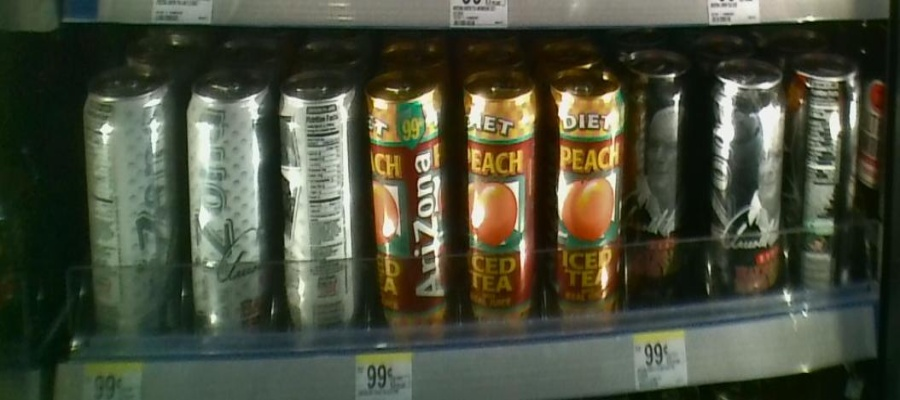bottle: (76, 73, 181, 348), (183, 68, 275, 353), (456, 68, 546, 352), (277, 66, 363, 360), (365, 66, 450, 343), (546, 59, 627, 331), (707, 52, 791, 310), (793, 54, 864, 296), (630, 47, 683, 299)
